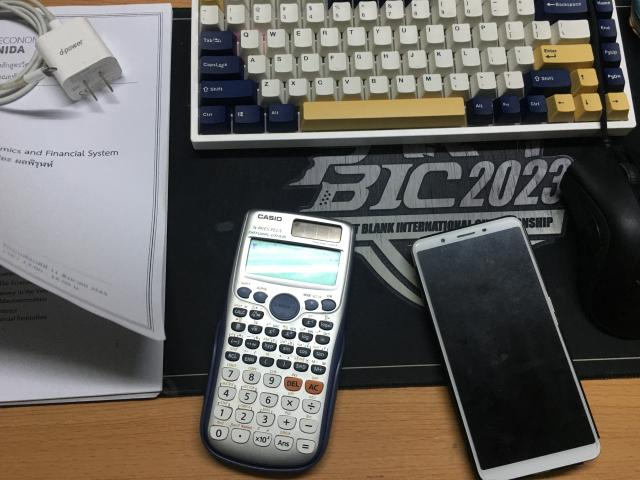Mobile phone: (412, 216, 600, 479)
Mouse: (561, 146, 640, 339)
paper: (0, 3, 171, 404)
